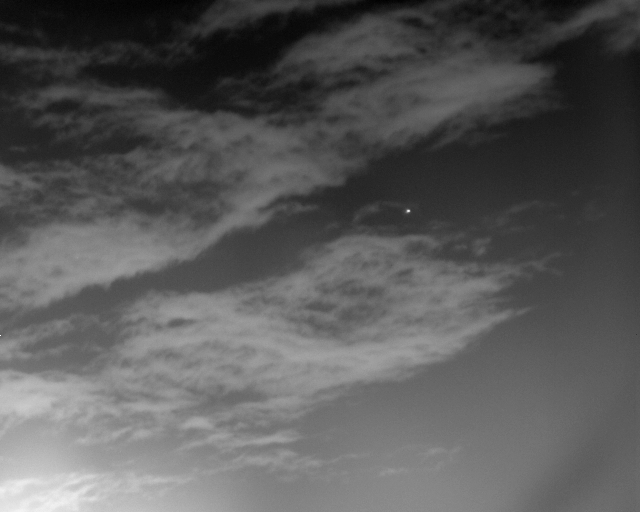Target: (405, 209, 413, 215)
